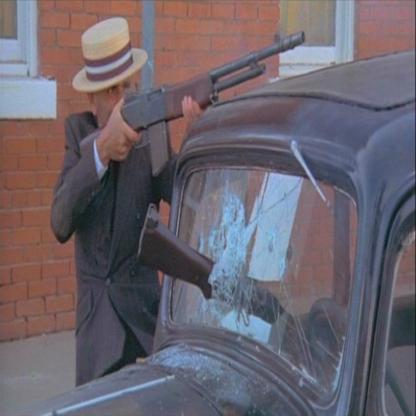gun: (116, 17, 320, 183), (114, 202, 214, 302)
